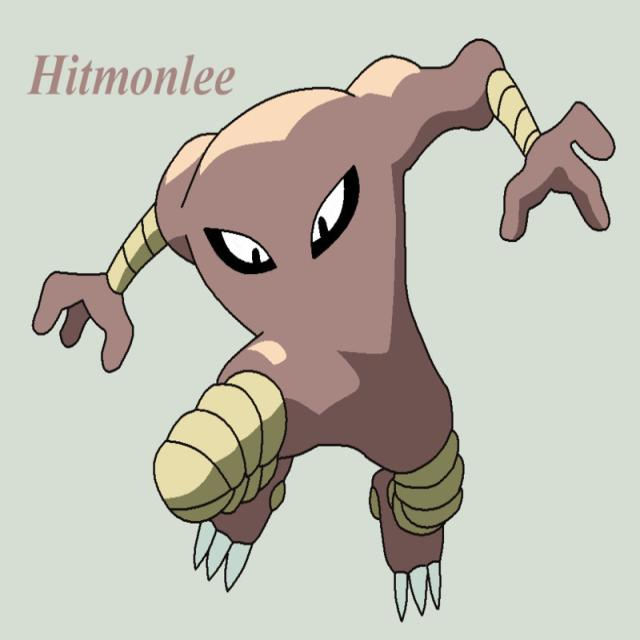Hitmonlee: (100, 38, 536, 586)
